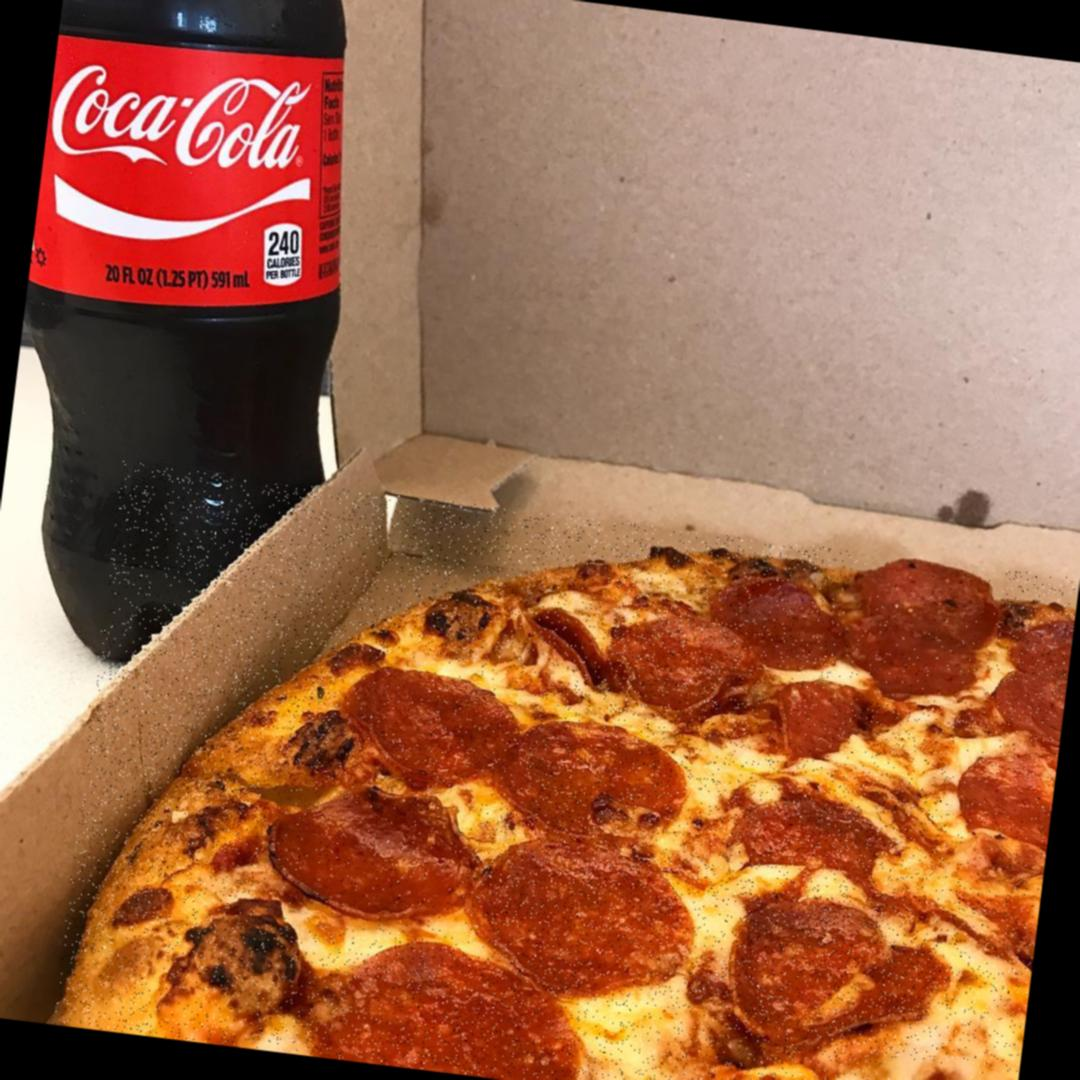Pepperoni: (457, 820, 710, 1008), (307, 926, 605, 1080), (710, 884, 956, 1068), (254, 768, 498, 950), (325, 646, 539, 805), (476, 703, 699, 855), (716, 776, 908, 892), (600, 597, 758, 733), (698, 556, 856, 682), (940, 735, 1058, 900), (838, 548, 1004, 654), (828, 617, 989, 712), (749, 660, 878, 766), (513, 598, 625, 694), (982, 658, 1068, 760), (1006, 612, 1074, 680), (865, 1054, 1018, 1080)
Pizza: (53, 461, 1079, 1080)
